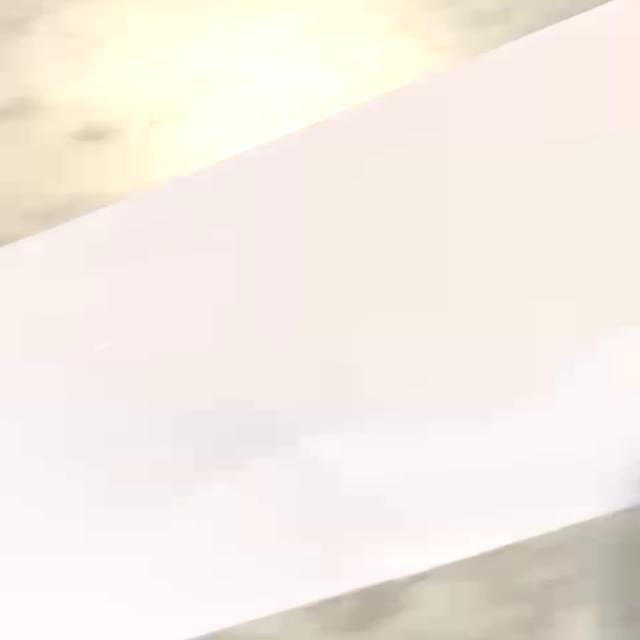road: (0, 0, 640, 640)
